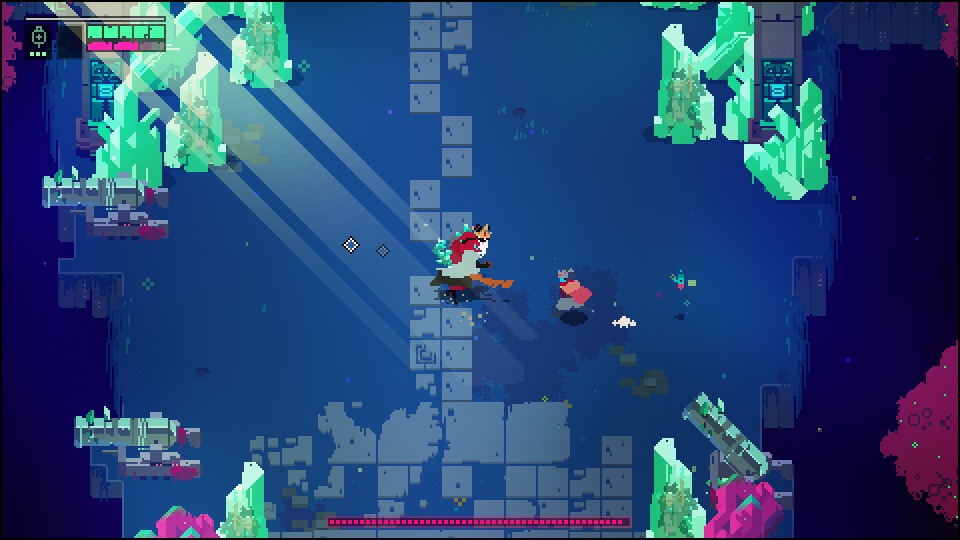hanged_man: (433, 223, 512, 296)
player: (552, 266, 594, 314)
